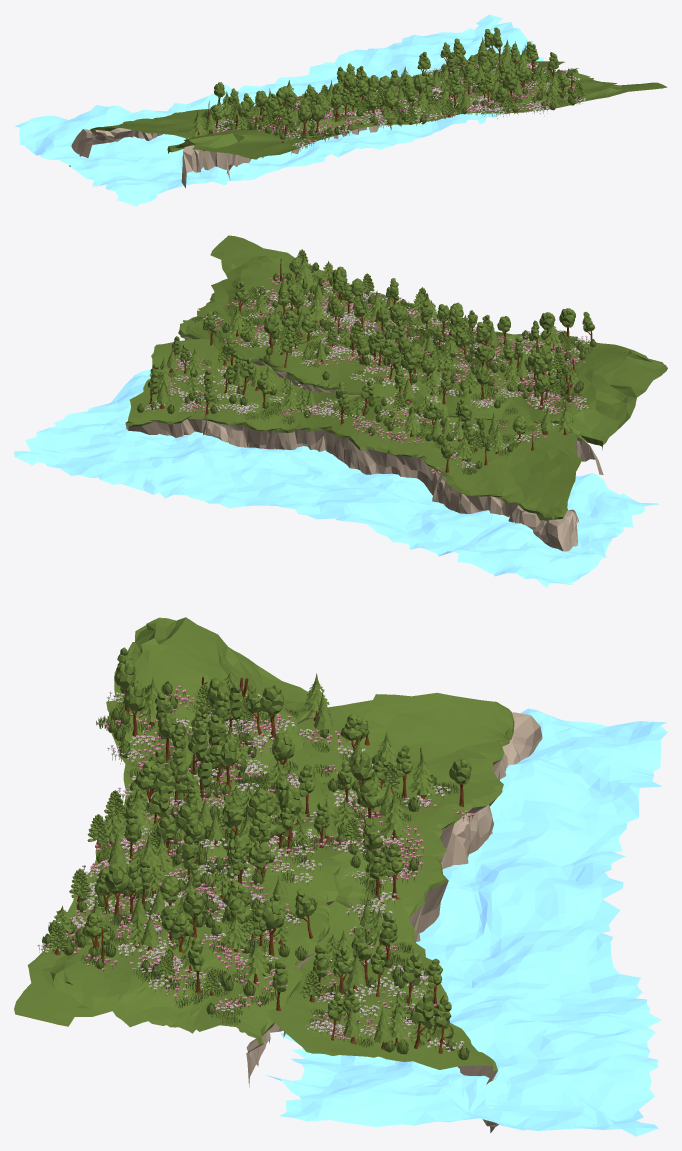
File: low_poly_forest.compressed.glb
3 views of the same model, one above another, from view 1: azimuth 30°, elevation 25°; view 2: azimuth 150°, elevation 25°; view 3: azimuth 270°, elevation 25° (orthographic). The views are drawn at different scales.
Visible parts, largest first — view 1: water_water_0, all_leafs_0, grnd_grnd_0, slope_slope_0, all_petal_a_0, all_petal_b_0, all_bark_0; view 2: grnd_grnd_0, water_water_0, all_leafs_0, slope_slope_0, all_petal_a_0, all_petal_b_0, all_bark_0; view 3: water_water_0, grnd_grnd_0, all_leafs_0, all_petal_a_0, all_petal_b_0, slope_slope_0, all_bark_0.
Part boxes in pixels (<box>): water_water_0: <box>14,14,545,206</box>; all_leafs_0: <box>189,27,585,151</box>; grnd_grnd_0: <box>90,53,667,159</box>; slope_slope_0: <box>69,116,453,188</box>; all_petal_a_0: <box>215,60,585,148</box>; all_petal_b_0: <box>191,62,580,146</box>; all_bark_0: <box>197,46,580,142</box>; grnd_grnd_0: <box>125,235,667,520</box>; water_water_0: <box>14,369,658,587</box>; all_leafs_0: <box>137,249,596,476</box>; slope_slope_0: <box>125,336,603,551</box>; all_petal_a_0: <box>145,263,593,467</box>; all_petal_b_0: <box>148,274,587,473</box>; all_bark_0: <box>149,258,592,472</box>; water_water_0: <box>265,708,667,1136</box>; grnd_grnd_0: <box>14,617,514,1070</box>; all_leafs_0: <box>39,647,472,1059</box>; all_petal_a_0: <box>37,692,464,1051</box>; all_petal_b_0: <box>38,685,474,1050</box>; slope_slope_0: <box>246,712,542,1132</box>; all_bark_0: <box>54,676,463,1053</box>.
Bounding box in the file's own units: 6.73 × 1.75 × 4.41.
Materials: 7 (4 with a texture image).
